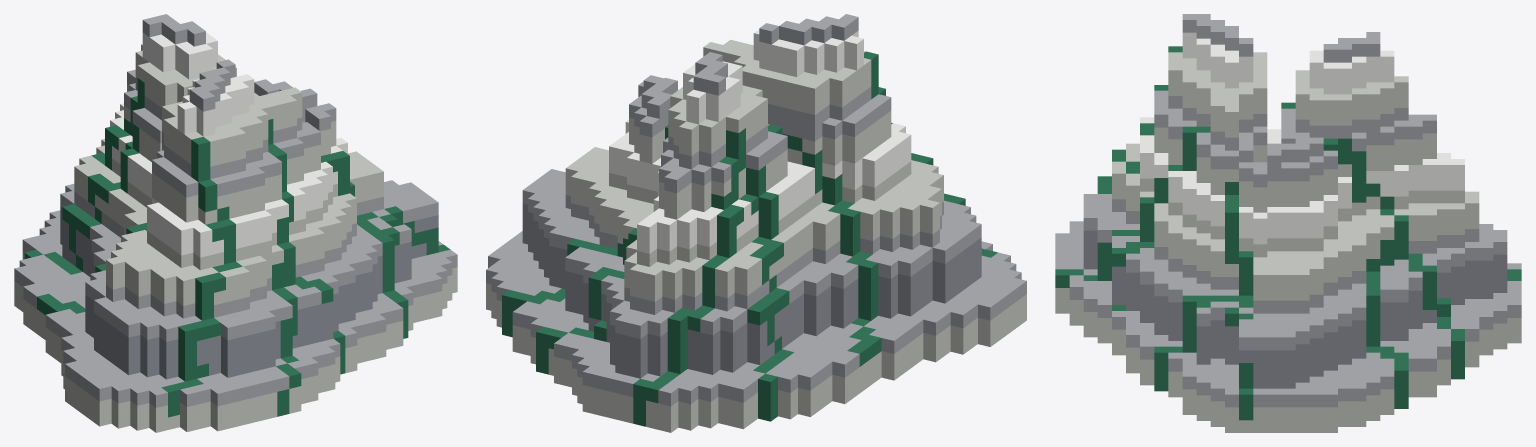
The model's file is rock.obj.
3 views of the same model, side by side, from view 1: azimuth 30°, elevation 25°; view 2: azimuth 150°, elevation 25°; view 3: azimuth 270°, elevation 25° (orthographic). The views are drawn at different scales.
Parts seen in each view (by area): view 1: rock; view 2: rock; view 3: rock.
Part boxes in pixels (x1,y1,x2,y2): rock: [14, 14, 457, 432]; rock: [486, 14, 1026, 432]; rock: [1055, 14, 1521, 432].
Bounding box in the file's own units: 34 × 22 × 33.
Materials: 1 (1 with a texture image).
